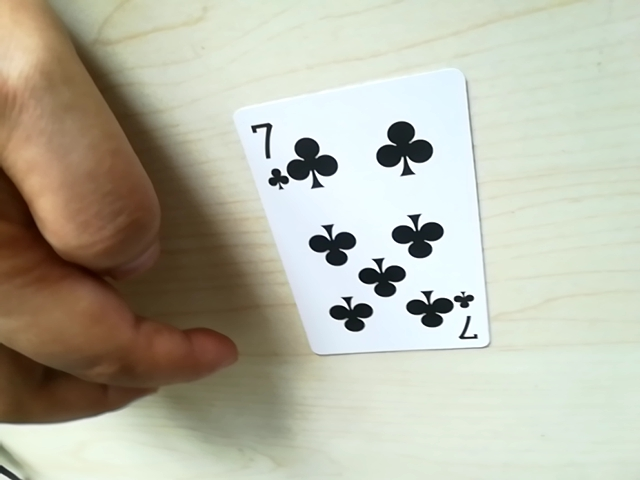mh 7: (245, 114, 276, 194), (448, 303, 484, 343)
